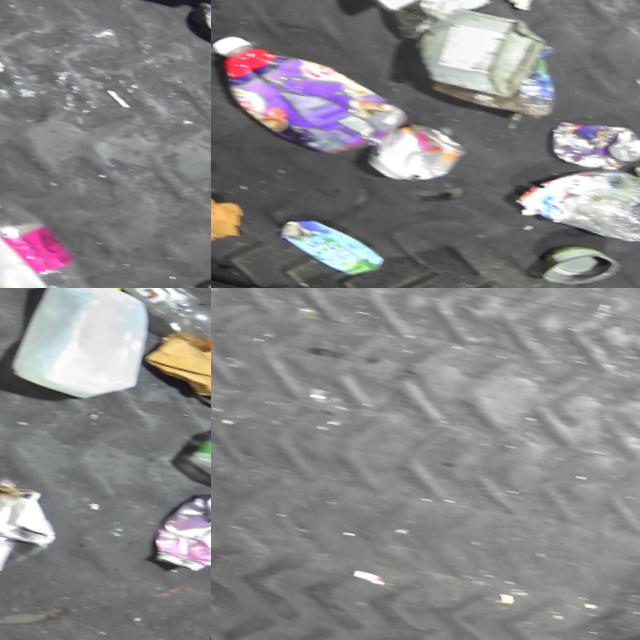can: (351, 113, 467, 201), (536, 114, 640, 187), (139, 486, 211, 587), (525, 238, 618, 288), (187, 0, 211, 61)
milk_jug: (0, 288, 161, 421)
non_white_jug: (211, 23, 416, 179)
plastic_bottle: (76, 288, 211, 369)
